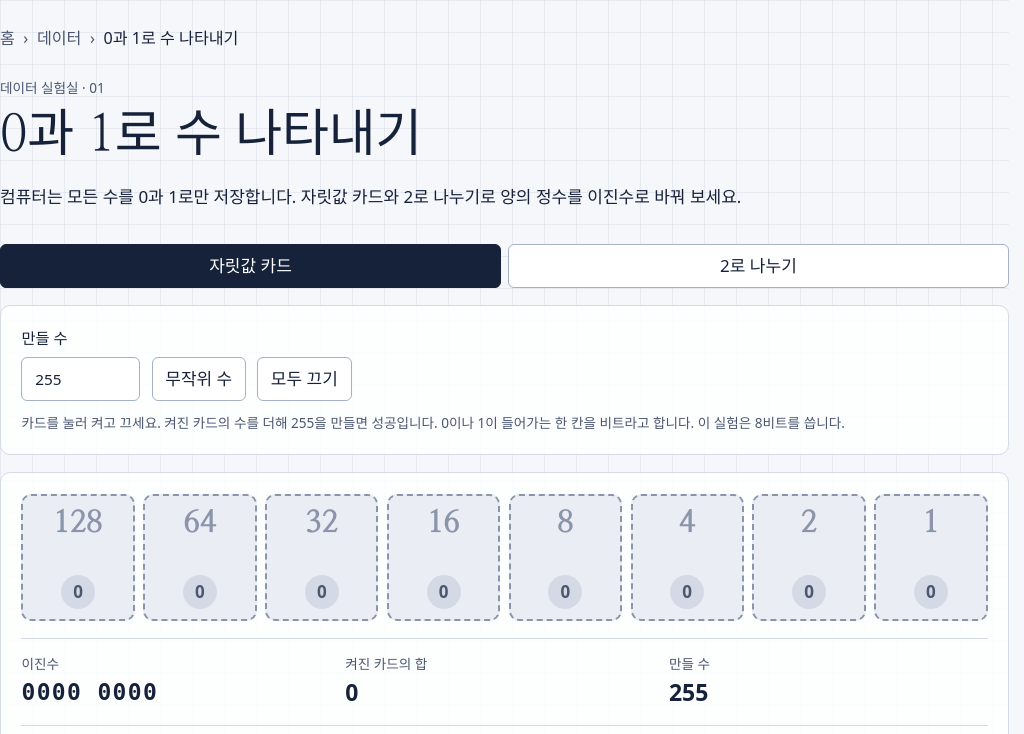
Test: 같은 값으로 바뀌어도 경고가 남고, 다른 값으로 바뀌면 사라진다
Replace the text in the number field labelled "만들 수" with "300" at (81, 379), box [22, 357, 140, 401]
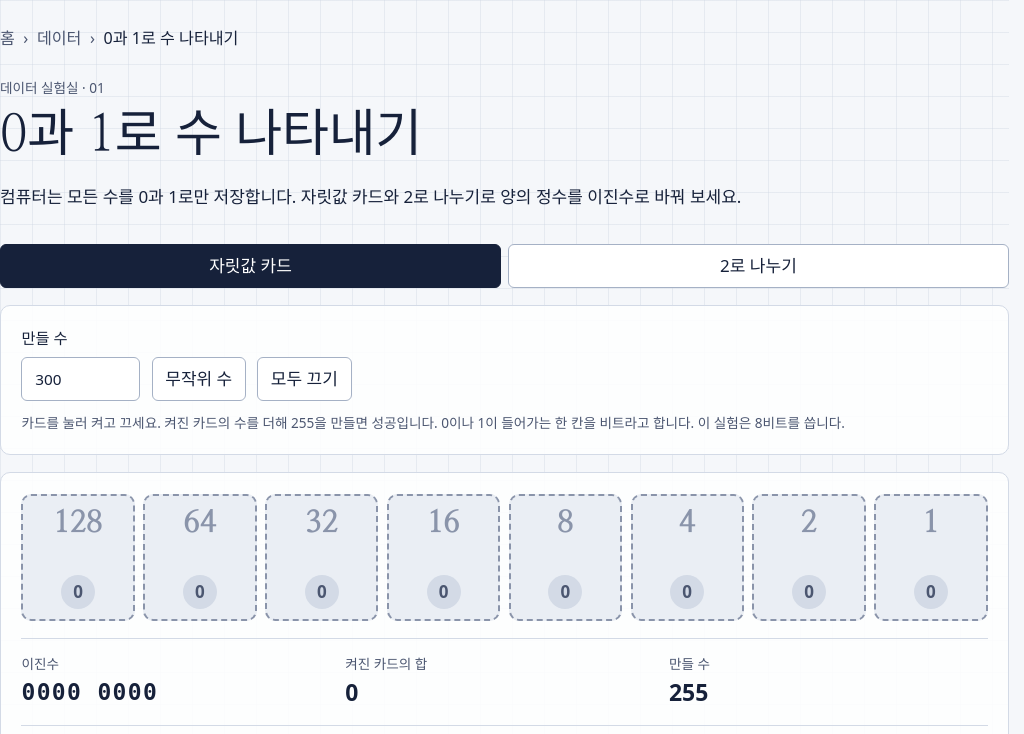
Leave the number field labelled "만들 수", box [22, 357, 140, 401]
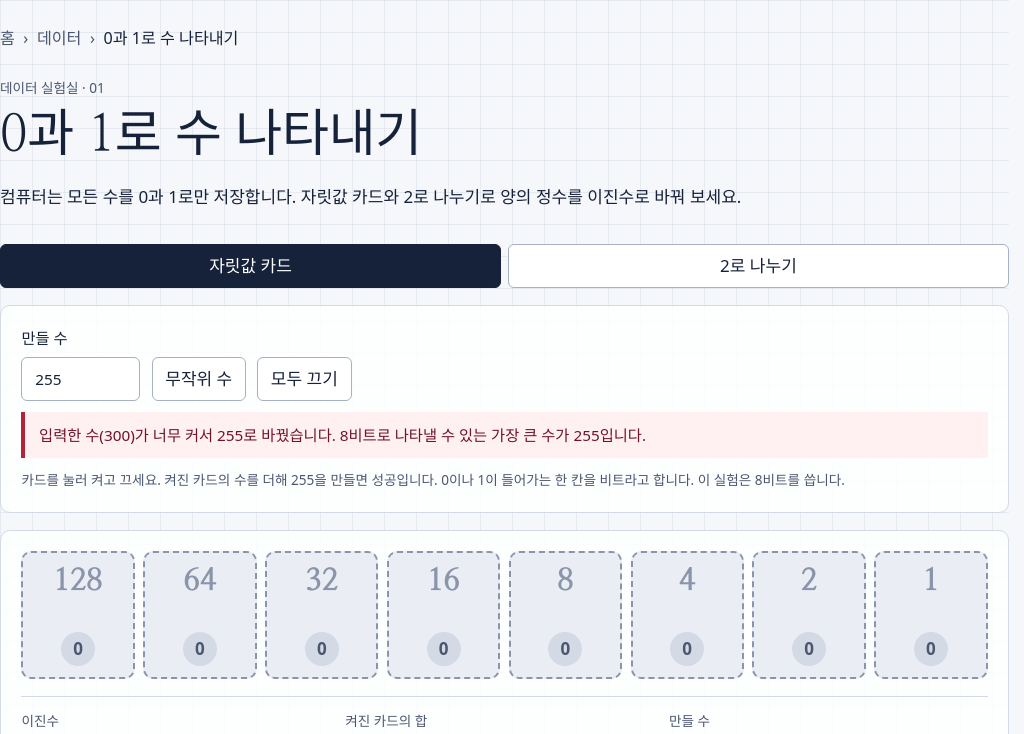
Result: the message shows "255로 바꿨습니다" at [39, 425, 646, 445]
Click the button "128 0" at (78, 615), box [22, 551, 135, 679]
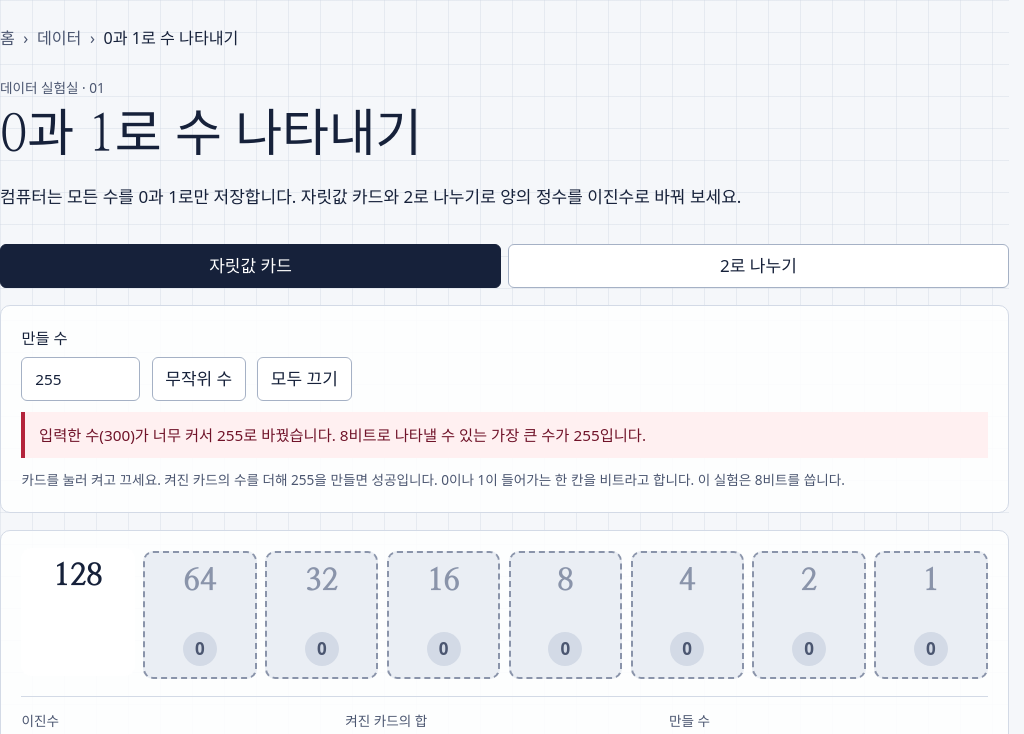
Result: the message "입력한 수(300)가 너무 커서 255로 바꿨습니다. 8비트로 나타낼 수 있는 가장 큰 수가 255입니다." is shown at [22, 412, 988, 458]
Click the button "무작위 수" at (199, 379), box [152, 357, 246, 401]
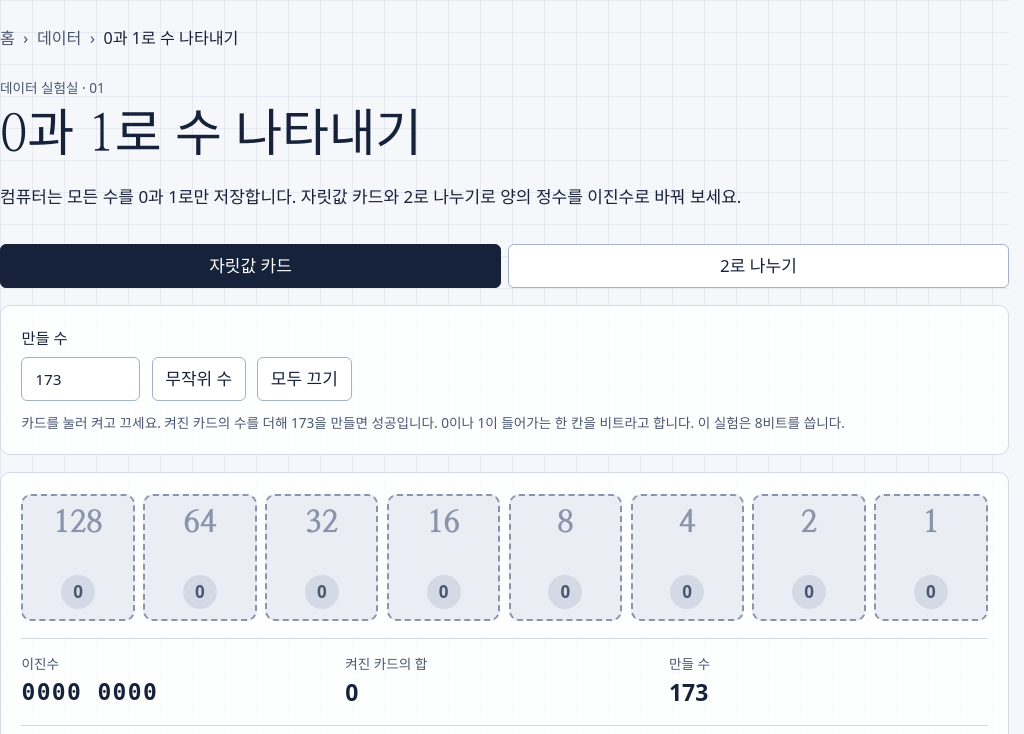
Result: the message "입력한 수(300)가 너무 커서 255로 바꿨습니다. 8비트로 나타낼 수 있는 가장 큰 수가 255입니다." is gone
